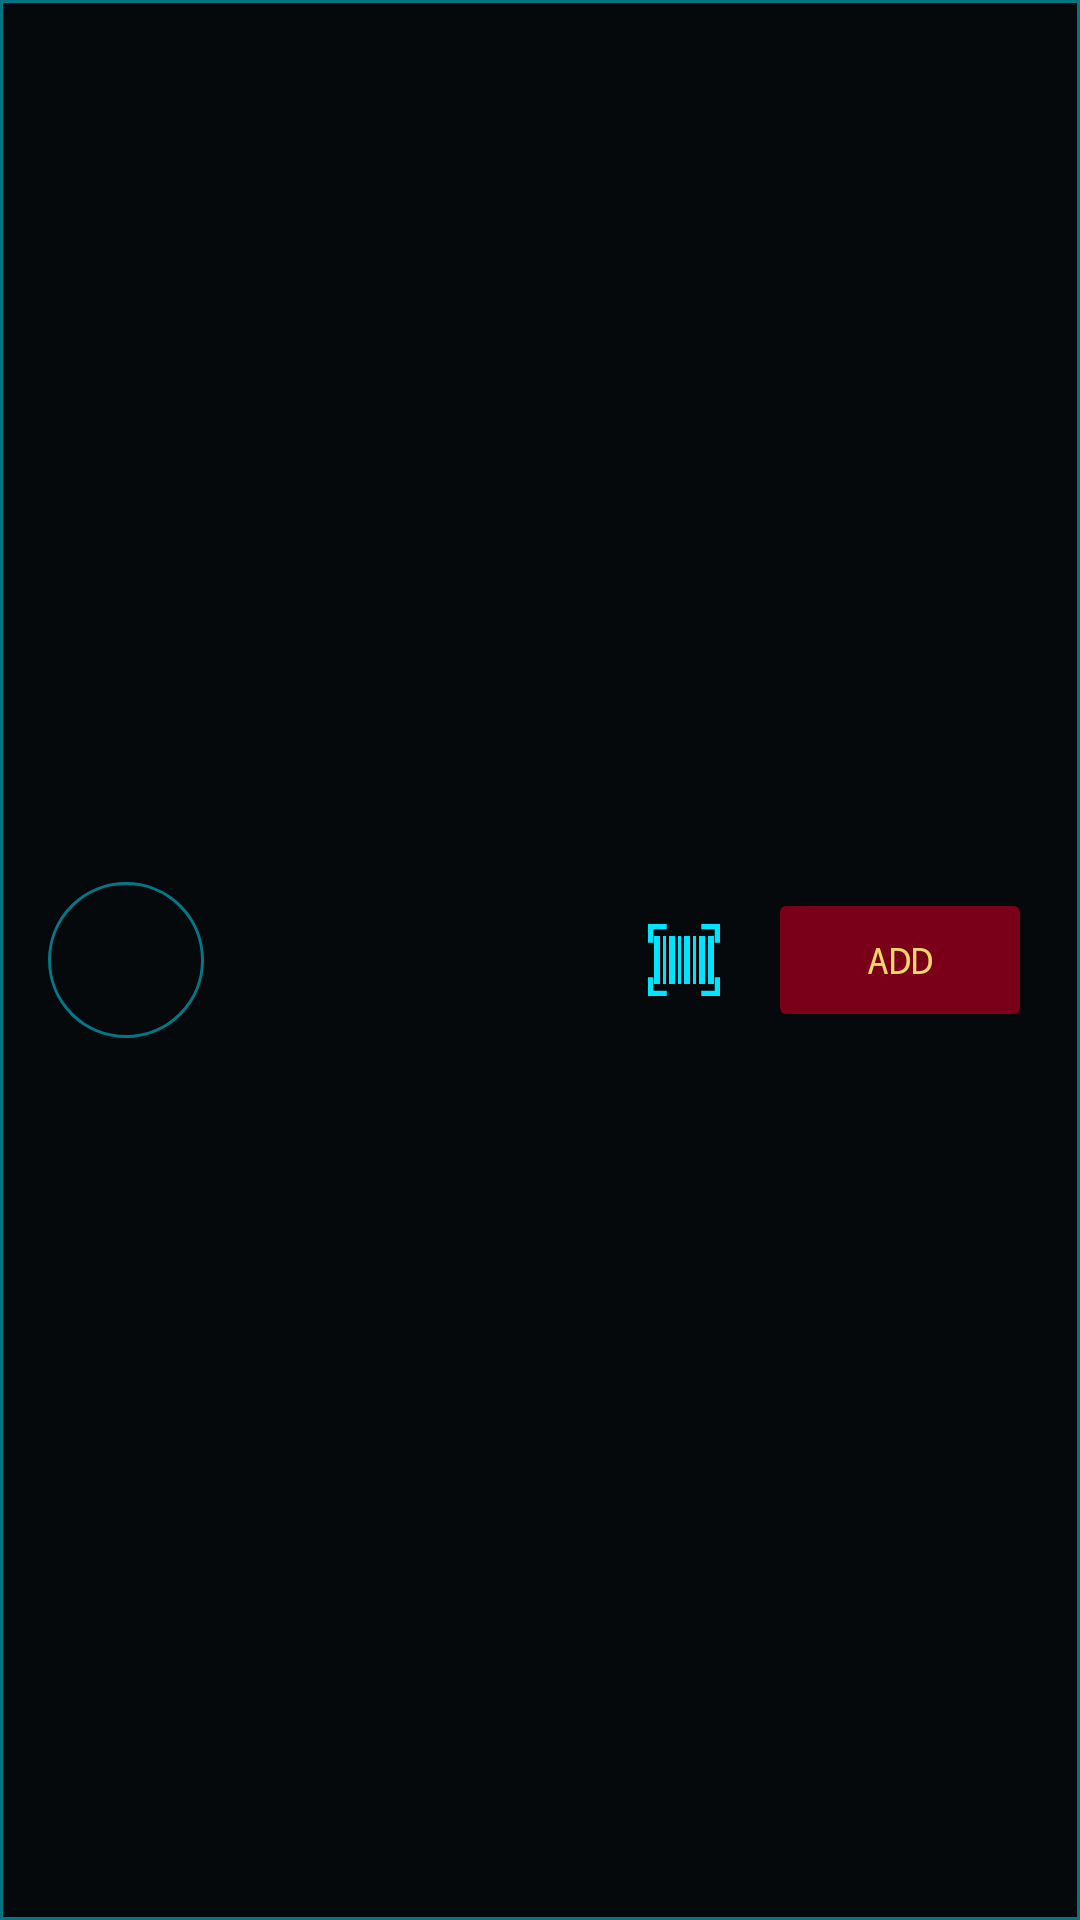

Icon click points for this 1080px x 1920px phone screenshot, format point (x, y):
Scan barcode: point (684, 960)
